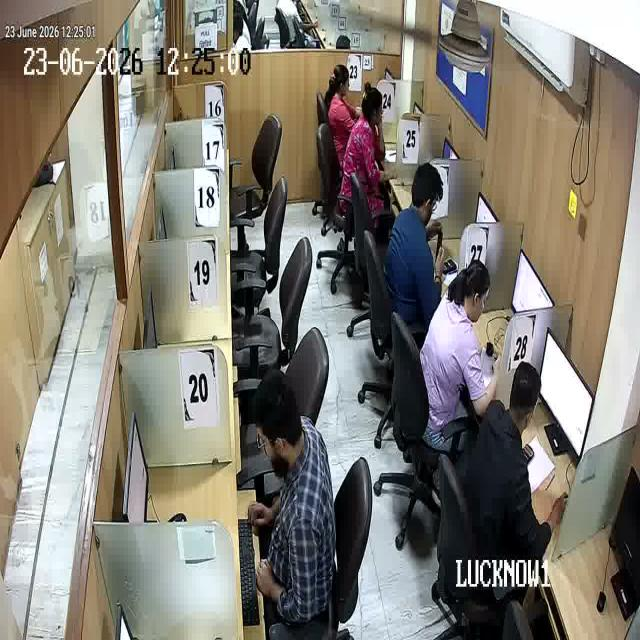phone: (434, 226, 448, 263)
